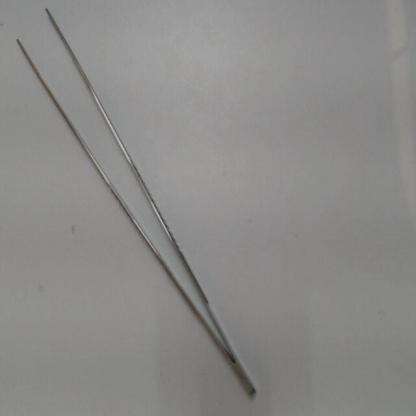DeBakey Dissector: (12, 2, 275, 410)
